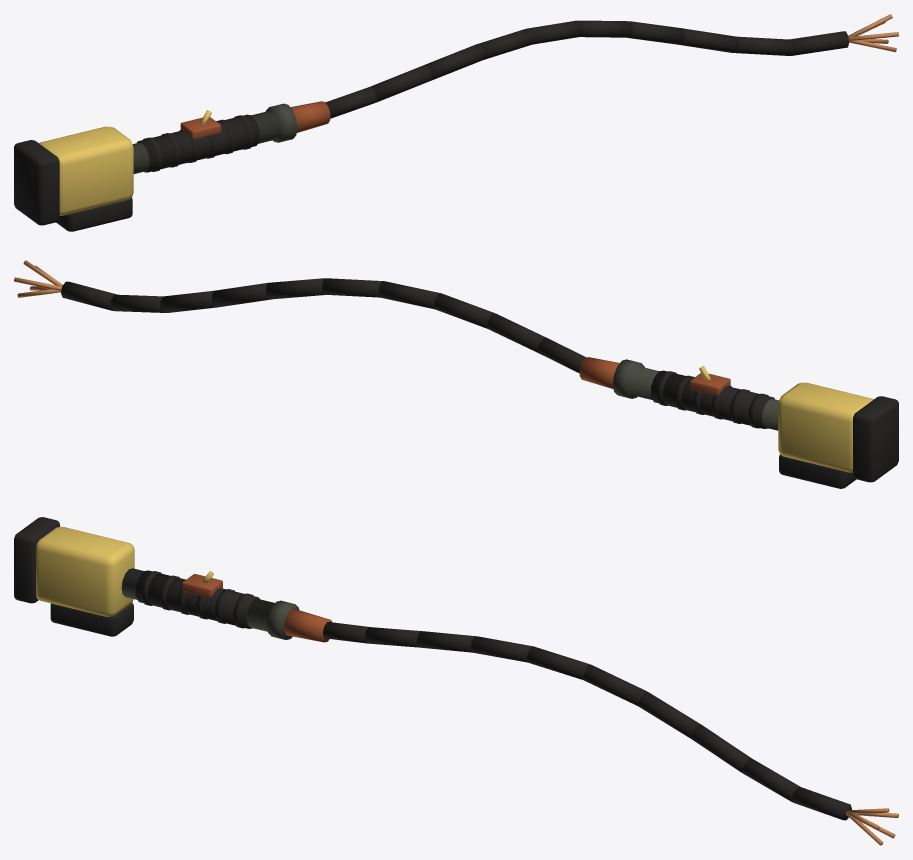
The model's file is item_live_wire.glb.
3 views of the same model, one above another, from view 1: azimuth 30°, elevation 25°; view 2: azimuth 150°, elevation 25°; view 3: azimuth 330°, elevation 25° (orthographic).
Visible parts, largest first — view 1: battery, battery_base, grip_tape, grip, husk, hang_1, hang_2, hang_9, hang_7, hang_8, hang_3, hang_6 (+5 smaller); view 2: battery, battery_base, grip_tape, grip, husk, hang_1, hang_2, hang_3, hang_5, hang_4, hang_6, hang_7 (+5 smaller); view 3: battery, grip_tape, battery_base, grip, husk, hang_6, hang_7, hang_5, joint, hang_4, hang_8, hang_9 (+4 smaller).
Boxes of the visible parts, x1,y1,x2,y2 form: battery: (39,126,133,215); battery_base: (14,140,59,225); grip_tape: (137,114,259,172); grip: (132,103,297,173); husk: (56,197,132,231); hang_1: (370,65,431,102); hang_2: (424,44,483,80); hang_9: (789,31,849,55); hang_7: (679,28,738,52); hang_8: (735,36,793,55); hang_3: (476,28,533,59); hang_6: (627,21,684,44); battery: (778,382,873,472); battery_base: (853,396,898,482); grip_tape: (651,370,774,428); grip: (612,359,779,430); husk: (779,454,856,488); hang_1: (487,313,546,352); hang_2: (434,293,494,328); hang_3: (378,281,440,309); hang_5: (266,278,325,299); hang_4: (322,278,383,297); hang_6: (211,283,271,307); hang_7: (160,290,217,312); battery: (36,526,134,616); grip_tape: (135,570,259,628); battery_base: (14,517,59,603); grip: (121,568,299,639); husk: (50,603,133,636); hang_6: (638,691,700,738); hang_7: (691,724,751,772); hang_5: (583,664,646,706); joint: (284,609,332,642); hang_4: (527,646,589,679); hang_8: (742,758,800,802); hang_9: (792,787,851,820).
Bounding box in the file's own units: 1.18 × 0.1355 × 0.0702.
